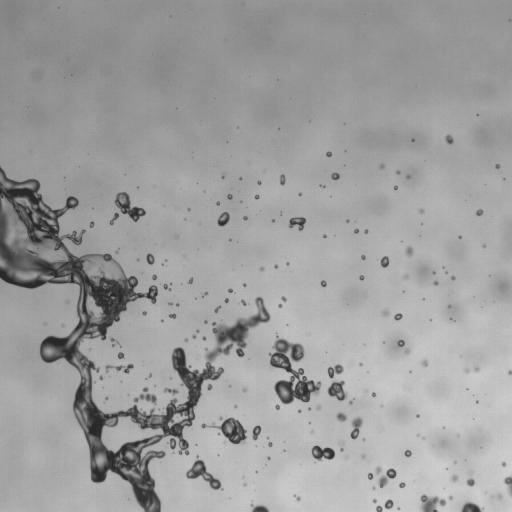droplet: (269, 334, 321, 404), (419, 494, 446, 511), (311, 445, 334, 461), (288, 217, 306, 230), (217, 212, 229, 226), (252, 425, 261, 440), (380, 256, 389, 267), (336, 412, 347, 421), (146, 253, 154, 264), (445, 134, 453, 144), (405, 246, 413, 256), (331, 172, 339, 180), (450, 474, 458, 482), (421, 358, 428, 367), (394, 313, 402, 320), (374, 466, 381, 474), (382, 309, 389, 316), (404, 450, 411, 457), (476, 209, 483, 215), (163, 284, 170, 290), (397, 340, 404, 346), (118, 352, 124, 358), (294, 495, 300, 501), (321, 280, 326, 287), (240, 300, 247, 305), (326, 151, 331, 157), (188, 278, 193, 284), (169, 313, 175, 318), (207, 384, 212, 390), (368, 473, 373, 479), (399, 482, 405, 487), (379, 164, 384, 169), (227, 194, 232, 199), (254, 194, 259, 199), (419, 208, 424, 213), (359, 275, 364, 280), (403, 274, 408, 279), (281, 296, 286, 301), (474, 366, 479, 371), (464, 368, 469, 373), (316, 405, 321, 410), (90, 221, 94, 227), (152, 274, 156, 280), (495, 164, 500, 168), (202, 292, 207, 296), (404, 349, 409, 353), (349, 399, 353, 404), (275, 404, 279, 409), (502, 461, 506, 466), (396, 170, 400, 174), (243, 216, 247, 220), (354, 229, 358, 233), (361, 255, 365, 259), (451, 276, 455, 280), (434, 281, 438, 285), (228, 288, 232, 292), (278, 304, 282, 308), (142, 311, 146, 315), (192, 334, 196, 338), (202, 336, 206, 340), (184, 338, 188, 342), (99, 375, 103, 379), (268, 442, 272, 446), (361, 454, 365, 458), (448, 495, 452, 499), (497, 494, 501, 498), (508, 370, 511, 375), (221, 174, 224, 178), (406, 175, 410, 178), (274, 264, 277, 268), (260, 267, 263, 271), (225, 298, 228, 302), (359, 362, 362, 366), (243, 388, 246, 392), (372, 393, 375, 397), (373, 499, 376, 503), (394, 186, 397, 189), (364, 230, 367, 233), (323, 234, 326, 237), (115, 250, 118, 253), (243, 283, 246, 286), (169, 302, 172, 305), (148, 374, 151, 377), (298, 409, 301, 412), (239, 177, 241, 180), (258, 181, 260, 184), (298, 193, 301, 195), (216, 202, 219, 204), (346, 220, 349, 222), (483, 244, 485, 247), (286, 262, 289, 264), (62, 324, 64, 327), (105, 397, 108, 399), (267, 457, 270, 459), (321, 185, 323, 187), (459, 236, 461, 238), (162, 263, 164, 265), (433, 271, 435, 273), (176, 303, 178, 305), (448, 305, 450, 307), (197, 330, 199, 332), (234, 405, 236, 407), (417, 415, 419, 417), (311, 430, 313, 432), (346, 456, 348, 458), (373, 487, 375, 489)
ligament: (0, 167, 270, 511), (201, 417, 246, 444), (186, 456, 222, 489), (114, 192, 145, 221), (327, 364, 347, 401), (378, 468, 396, 487), (350, 416, 363, 439), (105, 363, 133, 373), (461, 502, 484, 511), (376, 499, 393, 511), (503, 475, 511, 497), (250, 503, 269, 511), (466, 470, 474, 486), (163, 387, 178, 395), (110, 213, 119, 224), (280, 174, 285, 185), (339, 441, 344, 451), (110, 338, 118, 344), (214, 306, 220, 312)
